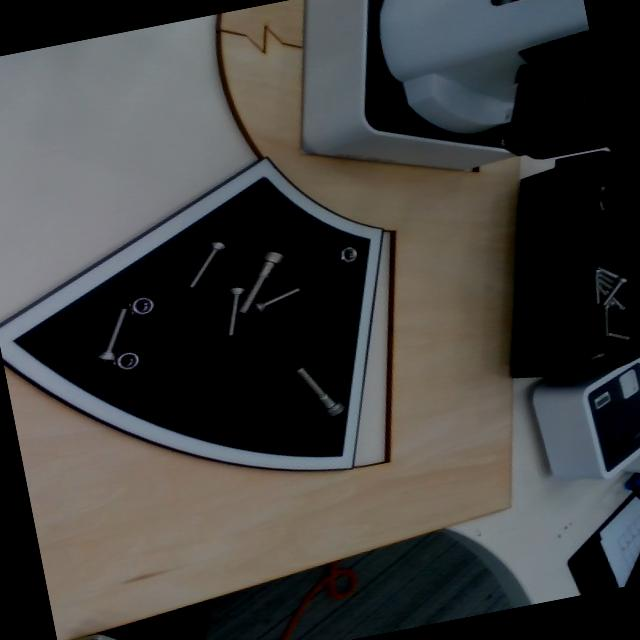big: (219, 240, 291, 321), (285, 357, 350, 426)
board: (0, 134, 429, 528)
circle: (125, 293, 161, 321), (112, 349, 143, 375), (335, 242, 362, 270)
small: (175, 232, 229, 292), (94, 300, 130, 370), (246, 282, 306, 319), (211, 282, 247, 342)
